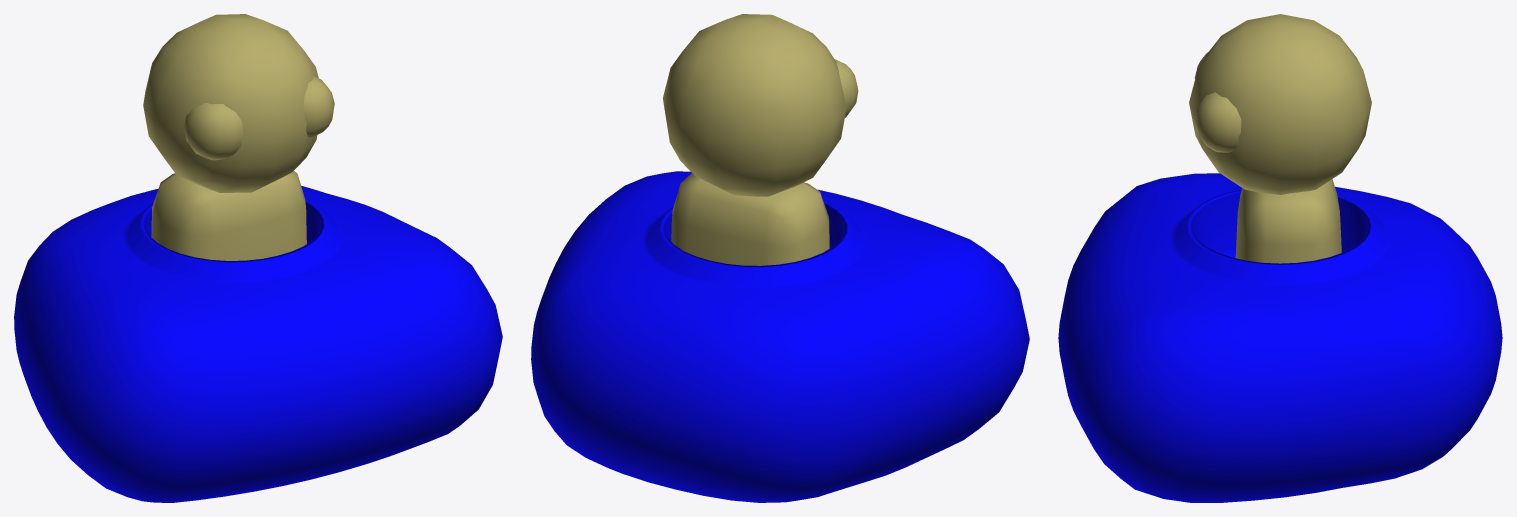
File: PlayerPuck.fbx
The picture shows the model from 3 angles, left to right: view 1: azimuth 30°, elevation 25°; view 2: azimuth 150°, elevation 25°; view 3: azimuth 270°, elevation 25°; orthographic projection. The views are drawn at different scales.
Parts seen in each view (by area): view 1: PlayerPuck, Player; view 2: PlayerPuck, Player; view 3: PlayerPuck, Player.
Part boxes in pixels (box(x1,y1,x2,y2)): PlayerPuck: box(14, 186, 502, 502); Player: box(143, 14, 334, 260); PlayerPuck: box(531, 171, 1029, 502); Player: box(663, 14, 858, 265); PlayerPuck: box(1058, 173, 1502, 502); Player: box(1189, 14, 1371, 263).
Size of the model in its own units: 289 by 270 by 263.
